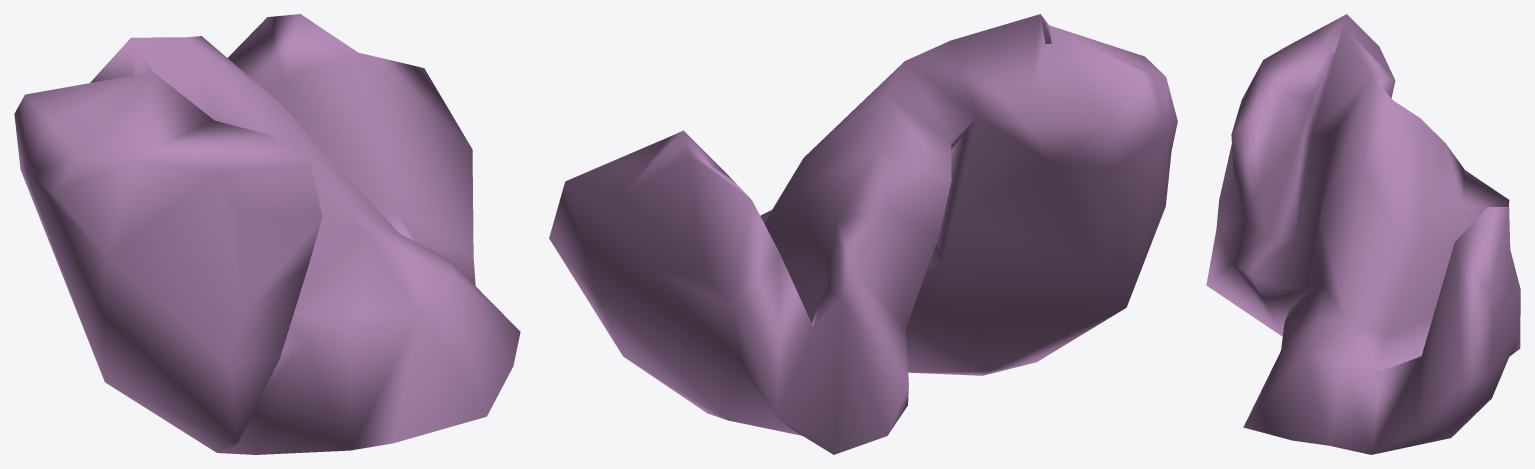
3 views of the same model, side by side, from view 1: azimuth 30°, elevation 25°; view 2: azimuth 150°, elevation 25°; view 3: azimuth 270°, elevation 25° (orthographic). The views are drawn at different scales.
Parts seen in each view (by area): view 1: 右侧额极横回与横沟; view 2: 右侧额极横回与横沟; view 3: 右侧额极横回与横沟.
Boxes of the visible parts, x1,y1,x2,y2 form: 右侧额极横回与横沟: (14,14,520,454); 右侧额极横回与横沟: (549,14,1177,454); 右侧额极横回与横沟: (1206,14,1520,454).
Bounding box in the file's own units: 0.0341 × 0.0256 × 0.0233.
